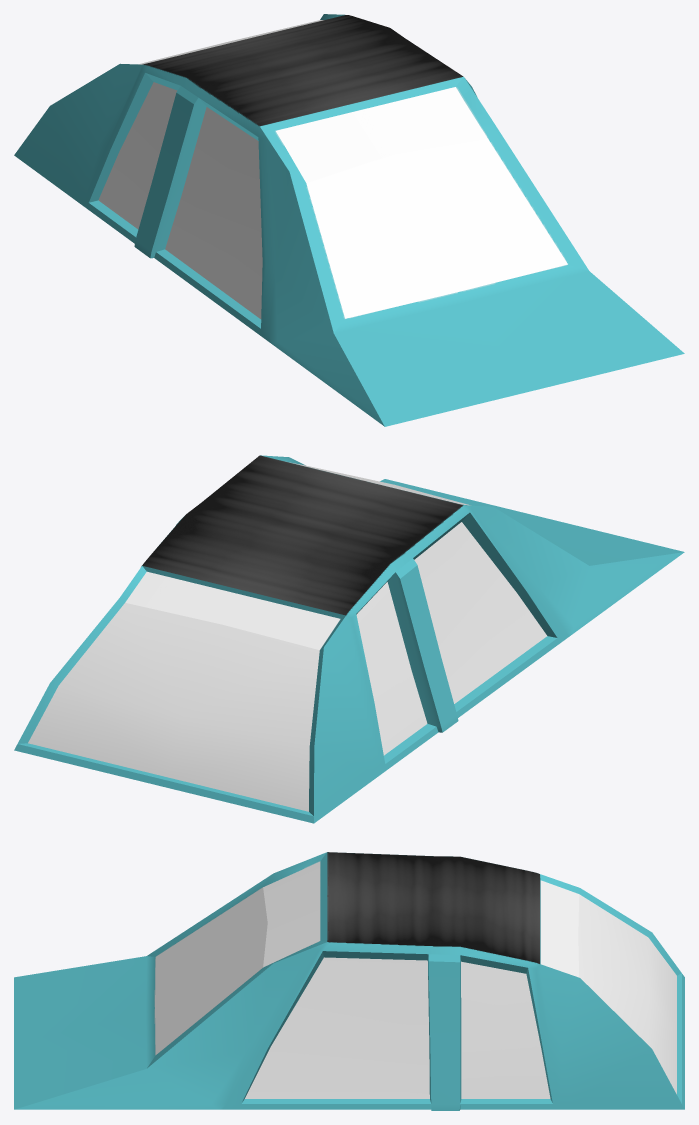
File: EV-TOP-mkm0D6OR.glb
The picture shows the model from 3 angles, top to bottom: view 1: azimuth 30°, elevation 25°; view 2: azimuth 150°, elevation 25°; view 3: azimuth 270°, elevation 25°; orthographic projection. The views are drawn at different scales.
Size of the model in its own units: 1.54 by 0.774 by 3.21.
2 materials, 2 textured.
